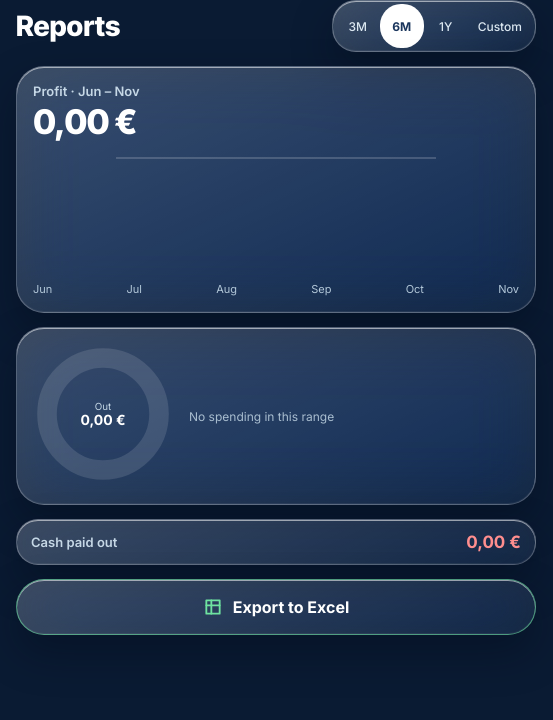
Scenario: export: signed in also saves to Google Drive and says so
Click the button "Export to Excel" at (276, 607), box [16,579,536,635]
(page scrolled)
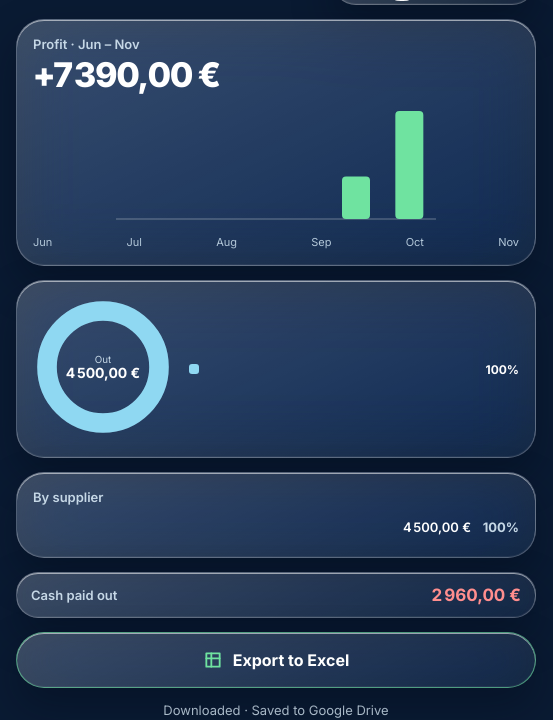
Now the text "Downloaded · Saved to Google Drive" is shown, box [163,702,389,718]
